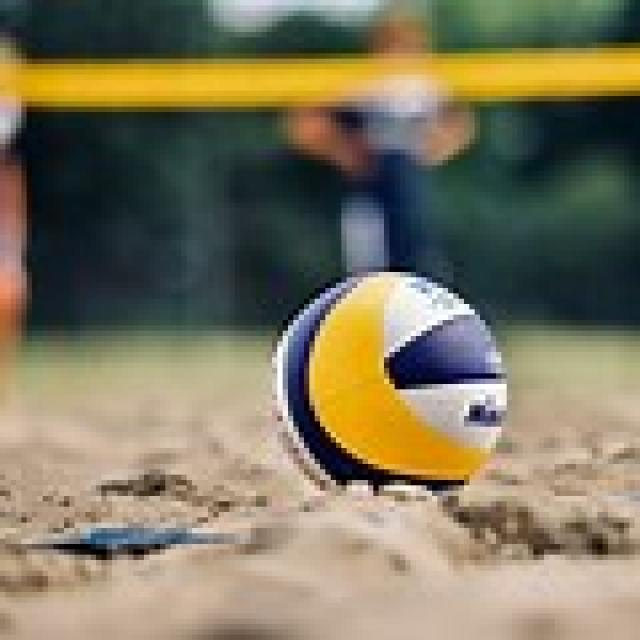volleyball: (270, 271, 508, 504)
